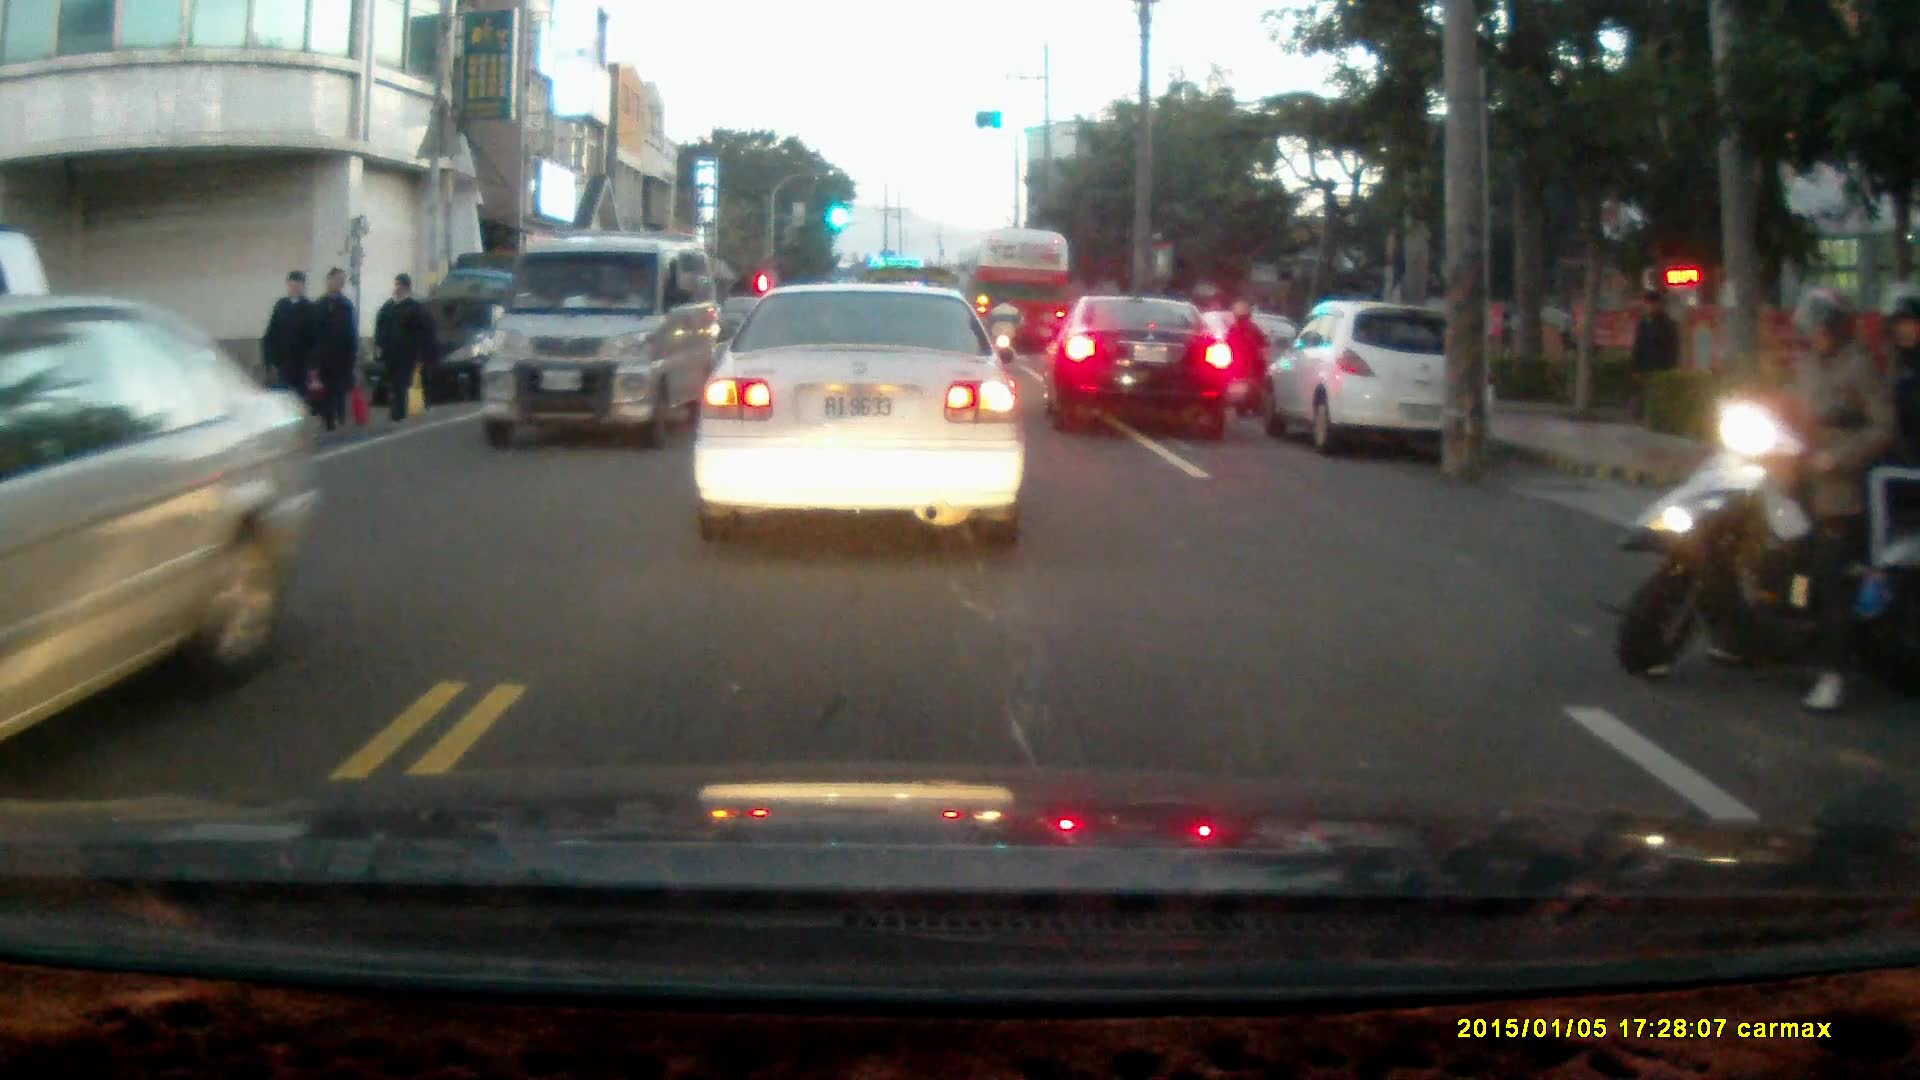pedestrian: (289, 263, 354, 459), (258, 266, 323, 454), (370, 269, 430, 425), (1631, 285, 1685, 423)
rider: (1617, 278, 1917, 708), (1222, 296, 1274, 416), (985, 289, 1024, 372)
vehicle: (1, 293, 326, 746), (690, 280, 1029, 551), (478, 231, 722, 452), (1258, 296, 1497, 461), (1044, 297, 1238, 440), (374, 291, 539, 408), (973, 224, 1072, 368)
